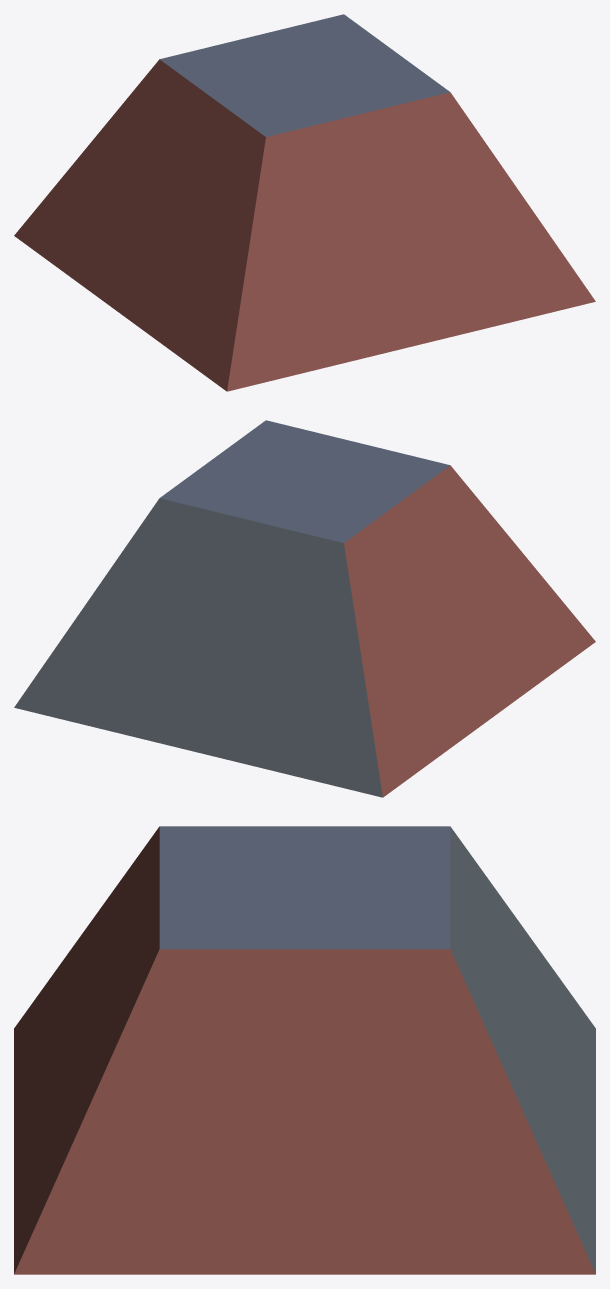
The model's file is Pyramid_half.fbx.
3 views of the same model, one above another, from view 1: azimuth 30°, elevation 25°; view 2: azimuth 150°, elevation 25°; view 3: azimuth 270°, elevation 25° (orthographic). The views are drawn at different scales.
Parts seen in each view (by area): view 1: Mesh; view 2: Mesh; view 3: Mesh.
Boxes of the visible parts, x1=… form: Mesh: x1=14, y1=14, x2=595, y2=391; Mesh: x1=14, y1=420, x2=595, y2=797; Mesh: x1=14, y1=826, x2=595, y2=1274.
Bounding box in the file's own units: 100 × 50 × 100.
